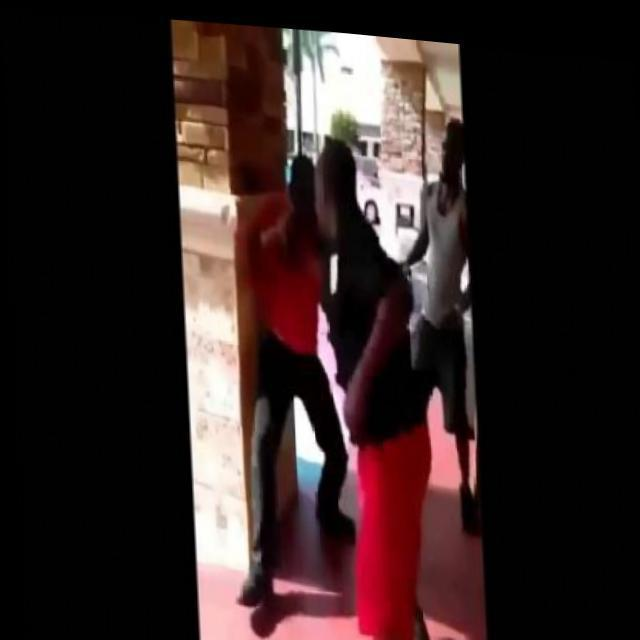fight: (212, 120, 437, 618)
